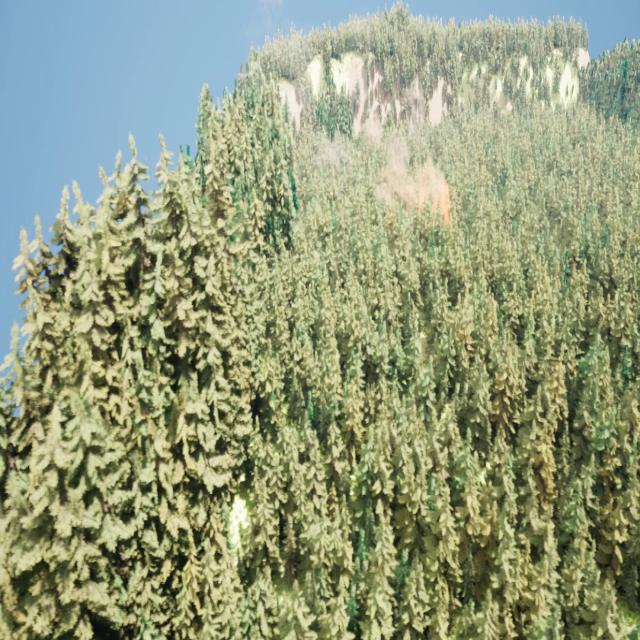smoke: (372, 128, 457, 239)
